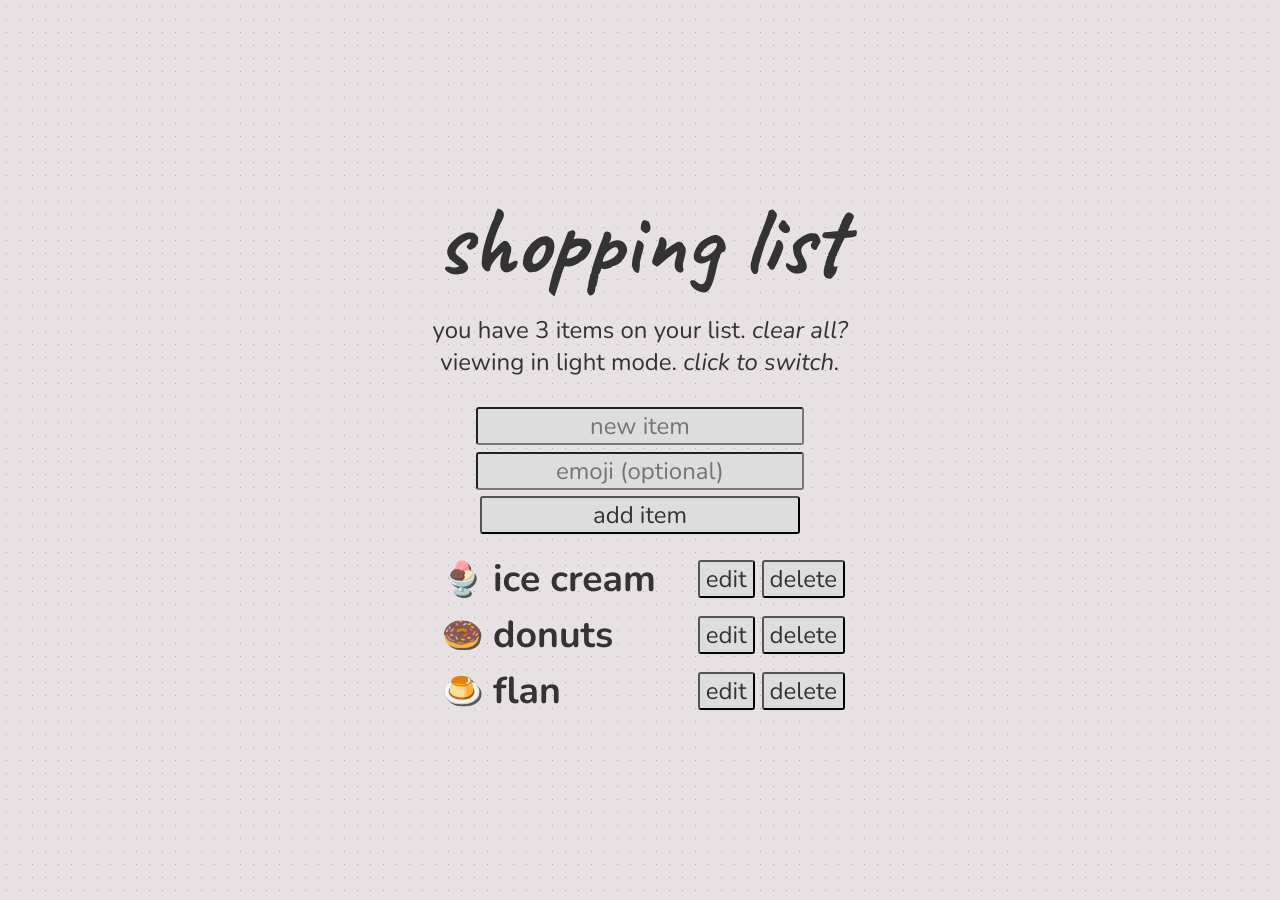
Test: renders a shopping list with options to add, edit, delete
Expected: the heading "Shopping List" is shown, left=423, top=168, right=857, bottom=314
// Add a new item to the list, list should now contain 4 items
Step 1. Type "pie" into the field named "new item name" → (640, 426), box left=476, top=407, right=804, bottom=445
Step 2. Type "🥧" into the field named "new item emoji" → (640, 471), box left=476, top=452, right=804, bottom=490
Step 3. Click the button named "add new item" → (640, 515), box left=480, top=496, right=800, bottom=534
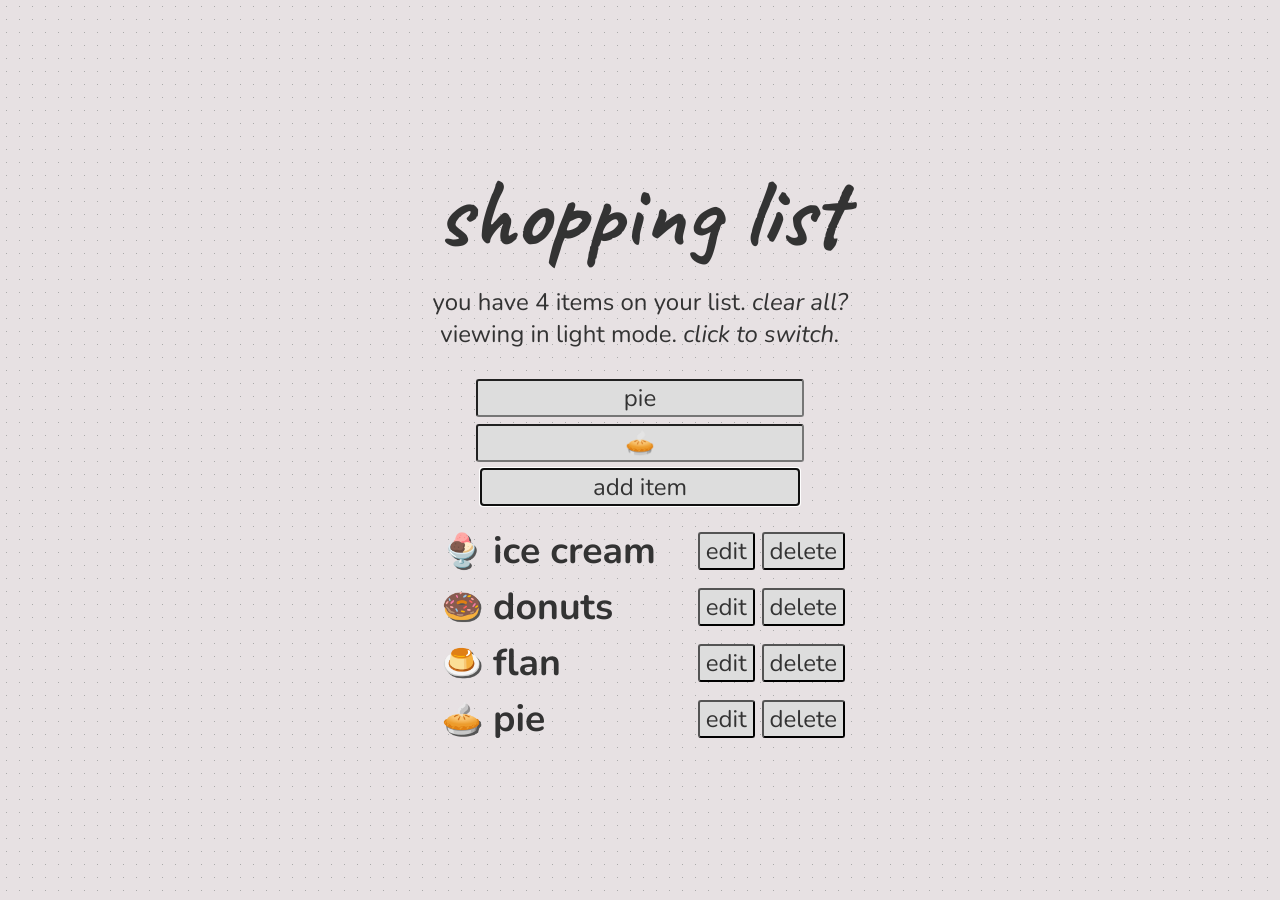
Result: the heading "pie" is shown at left=493, top=693, right=545, bottom=744
Step 4. Click the button named "edit donuts" → (726, 607), box left=698, top=588, right=754, bottom=626
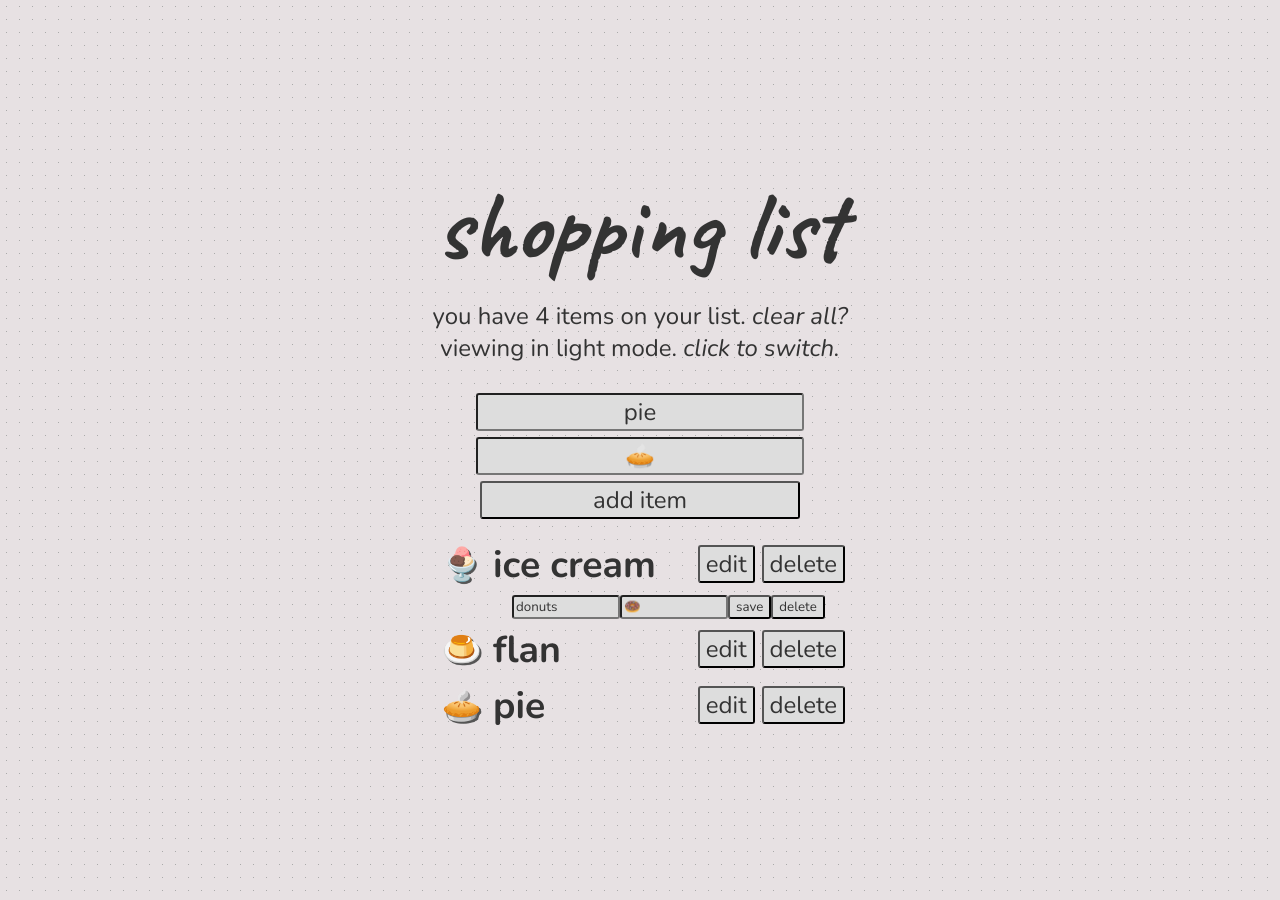
Step 5. Replace the text in the field named "editing donuts" with "soda" → (566, 607), box left=512, top=595, right=620, bottom=619
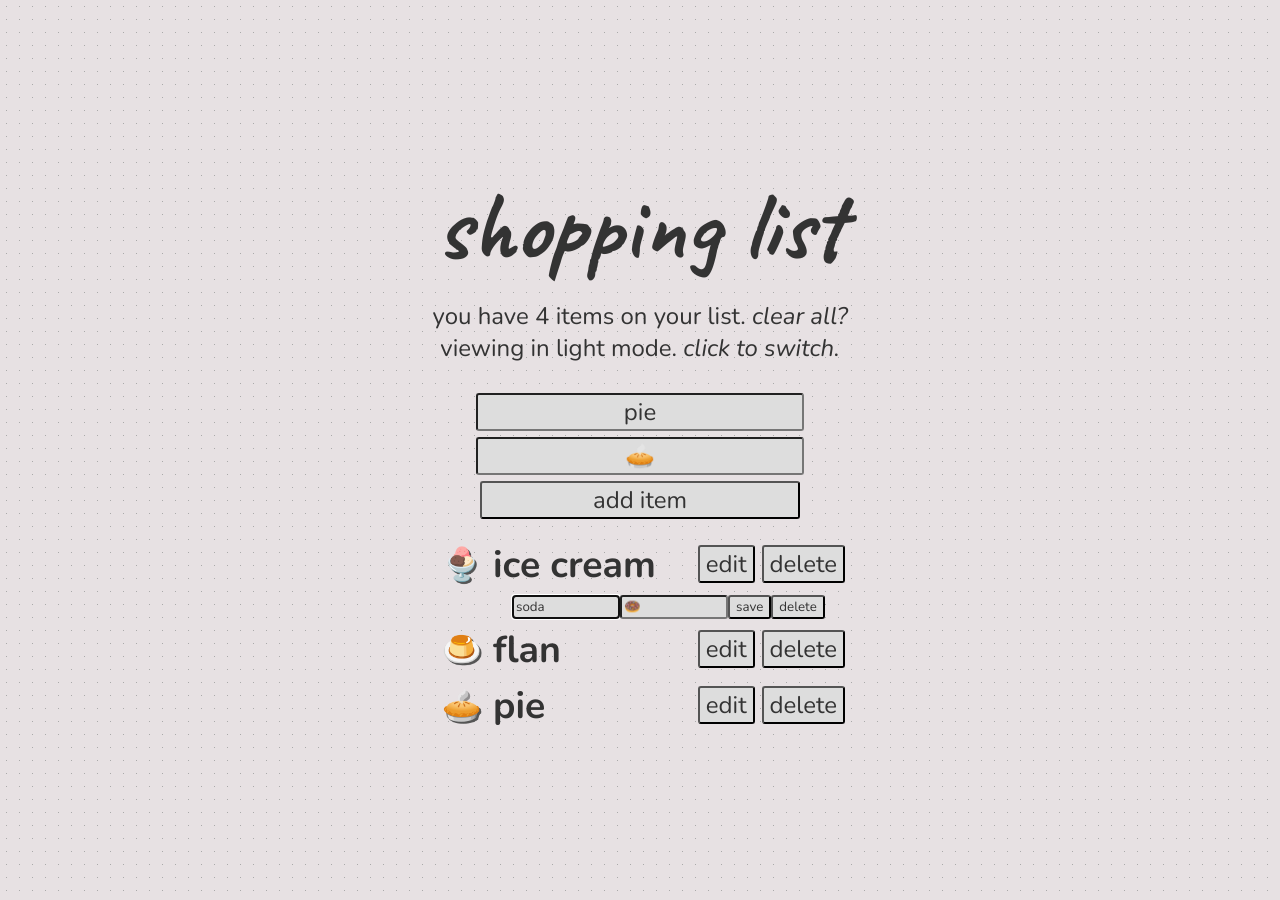
Step 6. Replace the text in the field named "editing 🍩" with "🥤" → (674, 607), box left=620, top=595, right=728, bottom=619
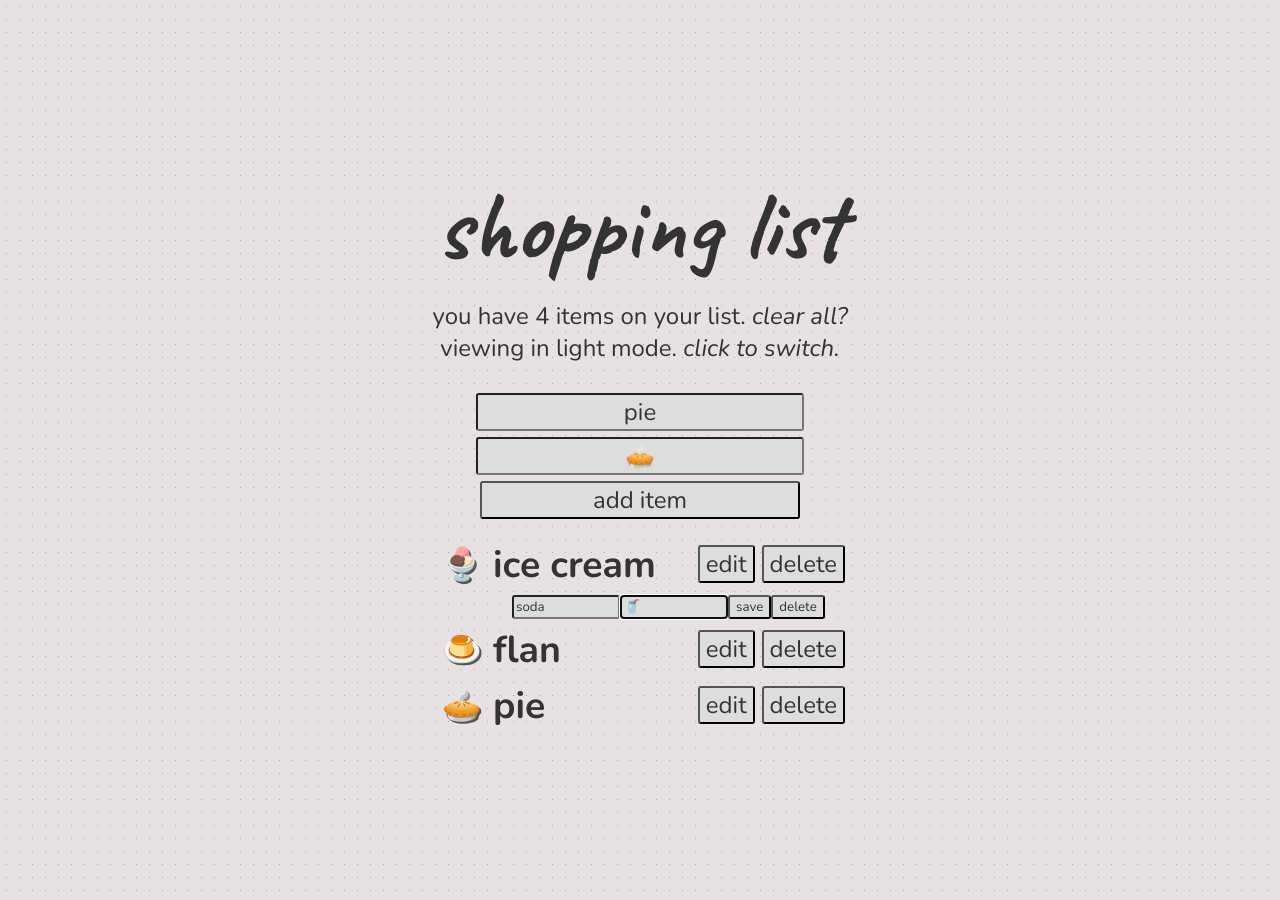
Step 7. Click the button named "save changes to donuts" → (750, 607), box left=728, top=595, right=771, bottom=619
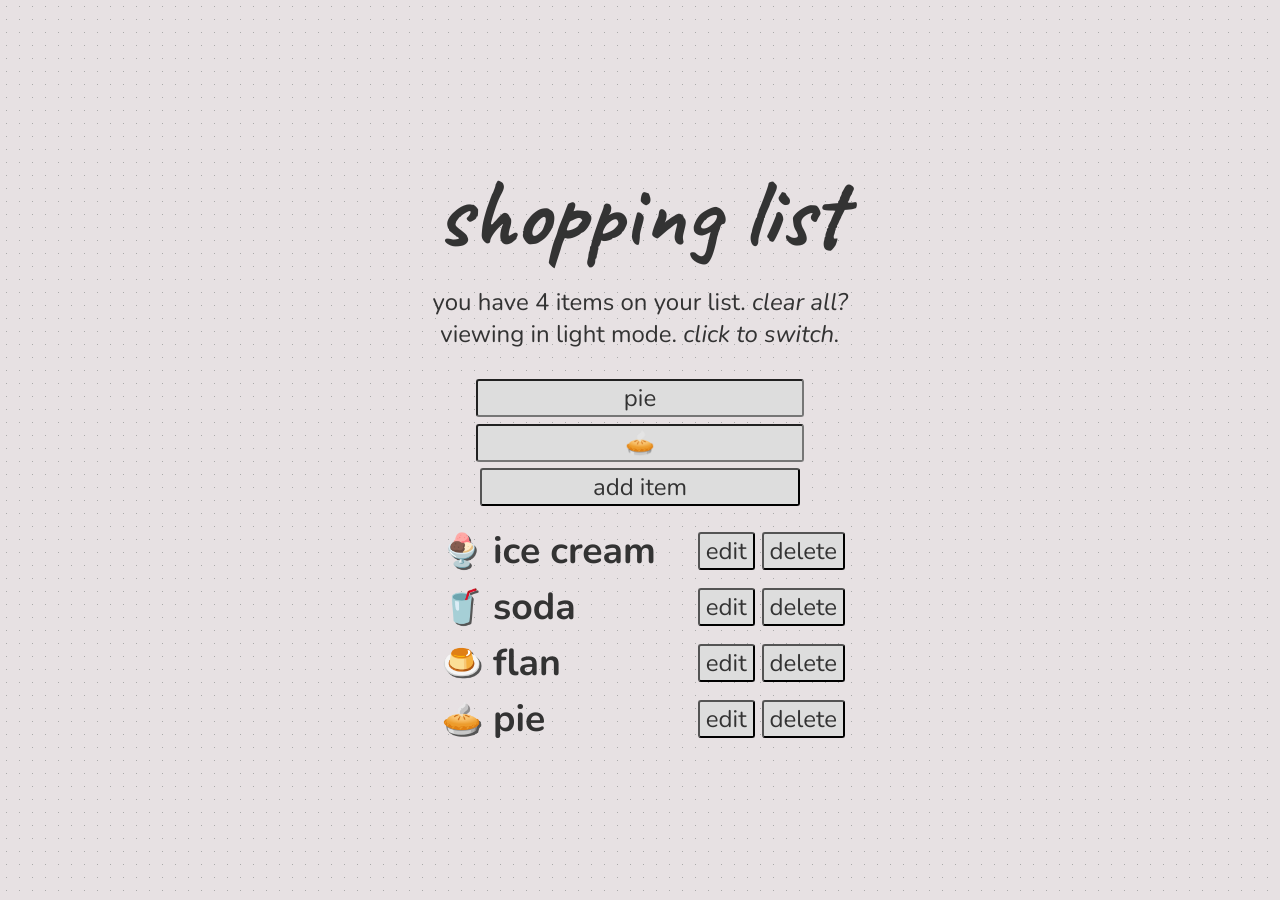
Expected: the heading "donuts" is not shown
Step 8. Click the button named "delete soda" → (803, 607), box left=762, top=588, right=845, bottom=626
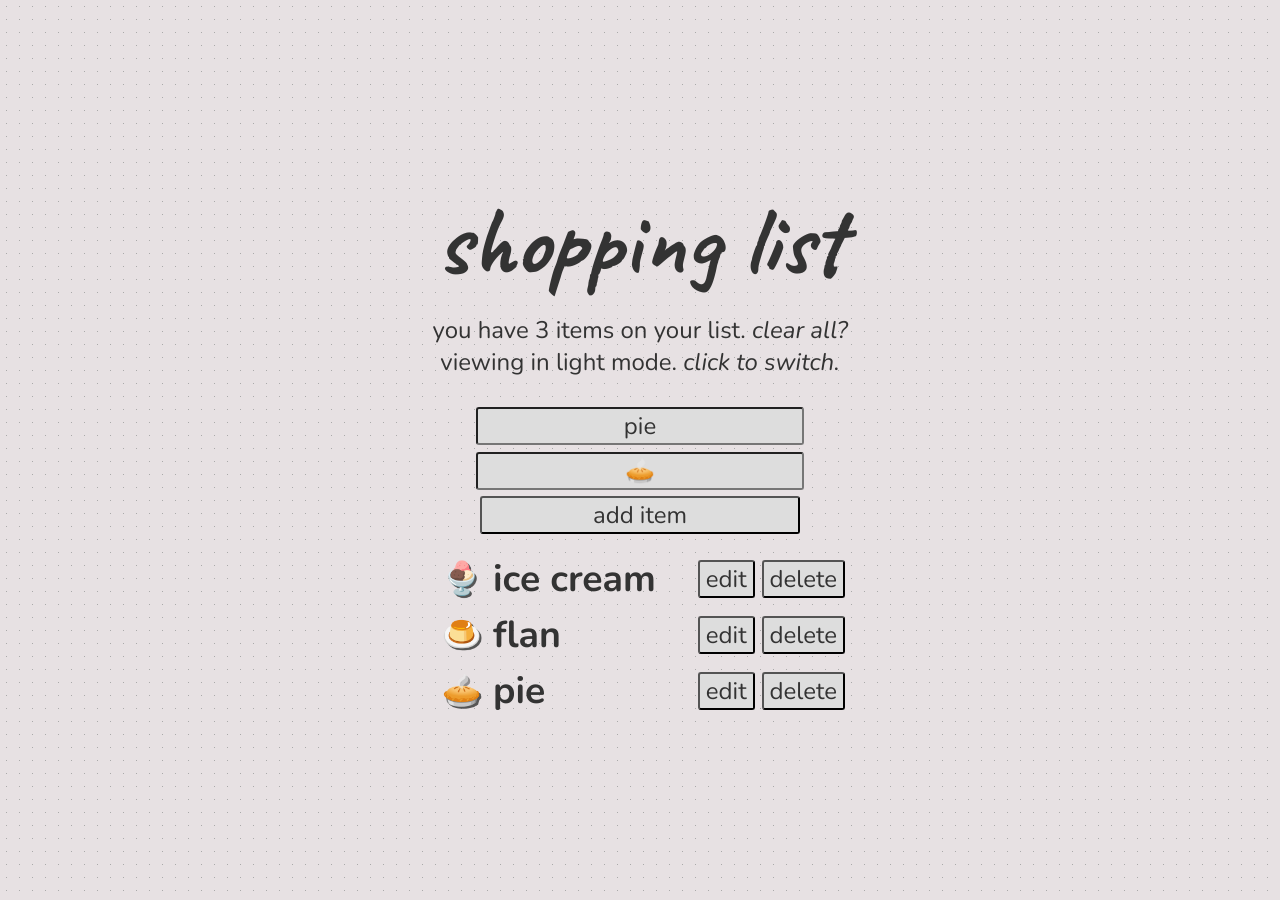
Result: the heading "soda" is gone
